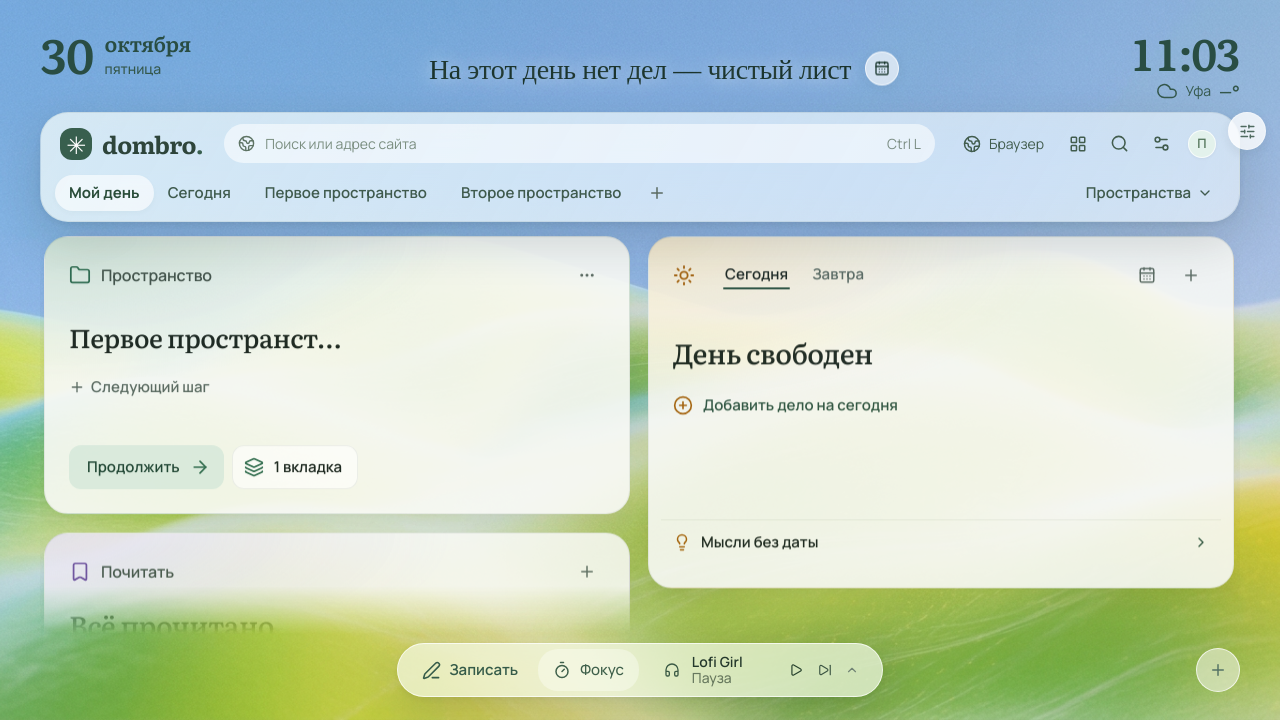
Test: полоса вкладок рабочих пространств (Chrome-like Tab Strip) › структура chrome-spaces: viewport с треком вкладок и переключатель «Пространства» с поиском, «Все» и «Новое»
The image size is (1280, 720).
Expected: the navigation bar with class "chrome-spaces" is shown, [55,171,1225,217]
Expected: the element with class "chrome-spaces-track" is shown, [251,175,673,211]
What coordinates should you click on to do the following:
click the button with class "space-switcher-trigger"
I would click on:
 (1148, 193)
Its box is [1072,175,1225,211].
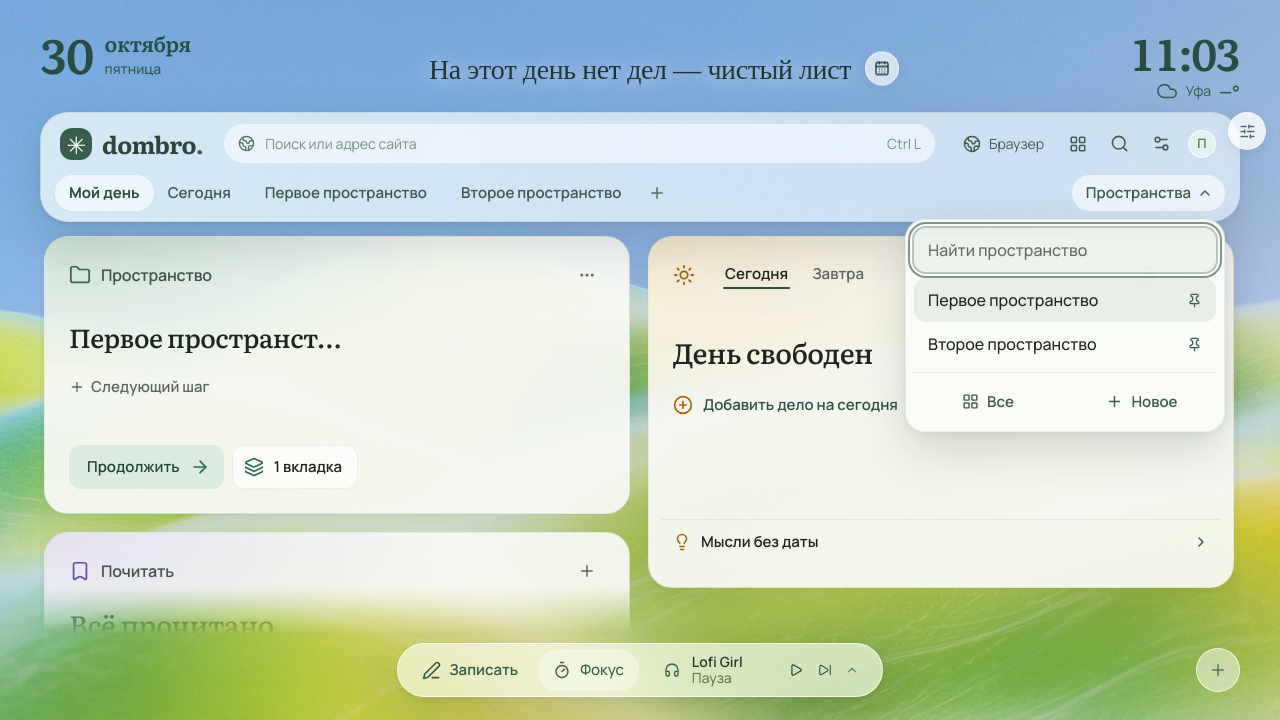
Expected: the button with class "space-switcher-trigger" is expanded, [1072,175,1225,211]
Expected: the field with class "space-switcher-search" is shown, [914,228,1216,272]
